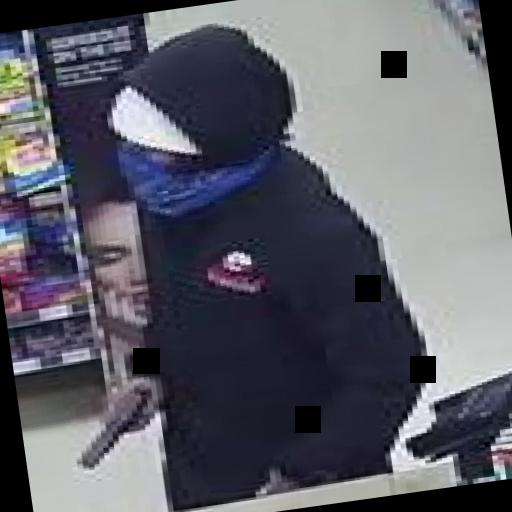Handgun: (56, 372, 172, 470)
